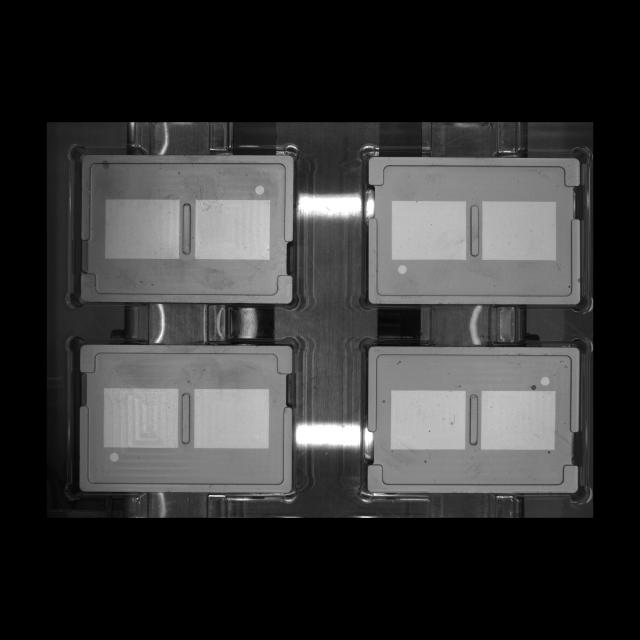product: (66, 143, 303, 312), (358, 142, 590, 313), (357, 336, 591, 505), (67, 335, 301, 502)
